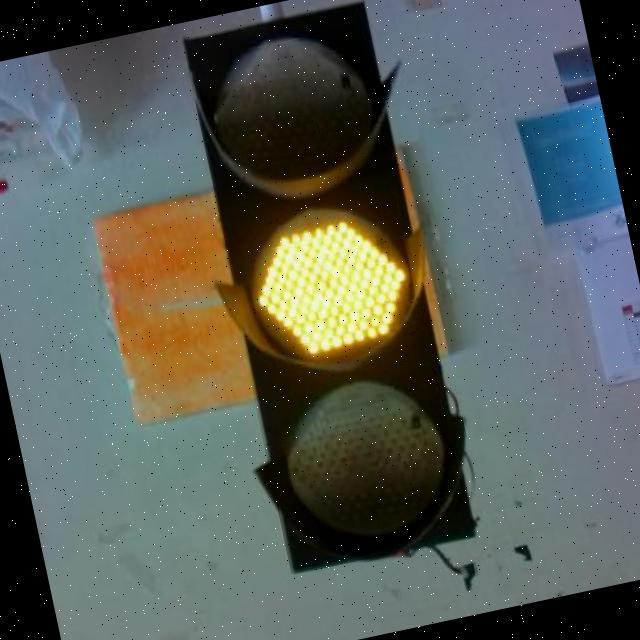yellow_light: (180, 1, 478, 576)
